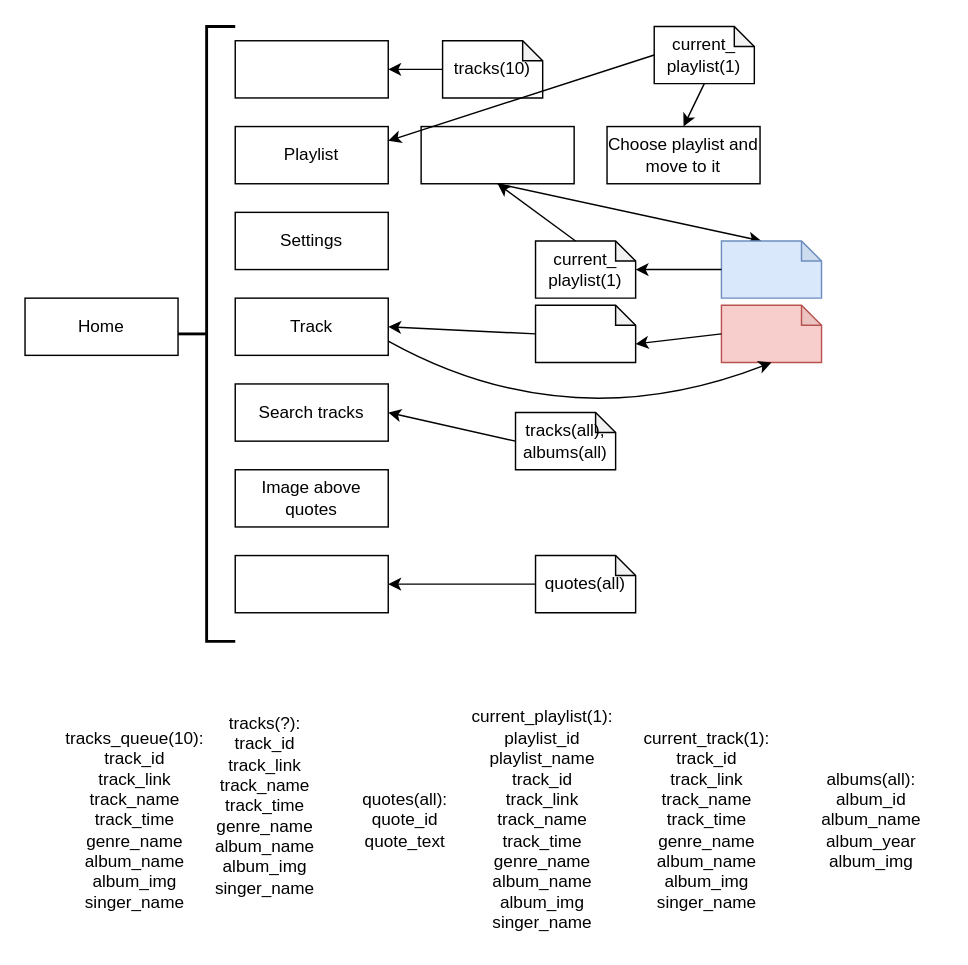
The diagram is 968 pixels wide and 965 high, and some of its shapes have lost their labels. The centre of each missing label's shape, as x and y in pixels:
Create playlist: point 497,154
current_ track(1): point 585,333
Library: point 311,68
playlists(all): point 771,269
Quotes: point 311,583
track_ queue(10): point 771,333
